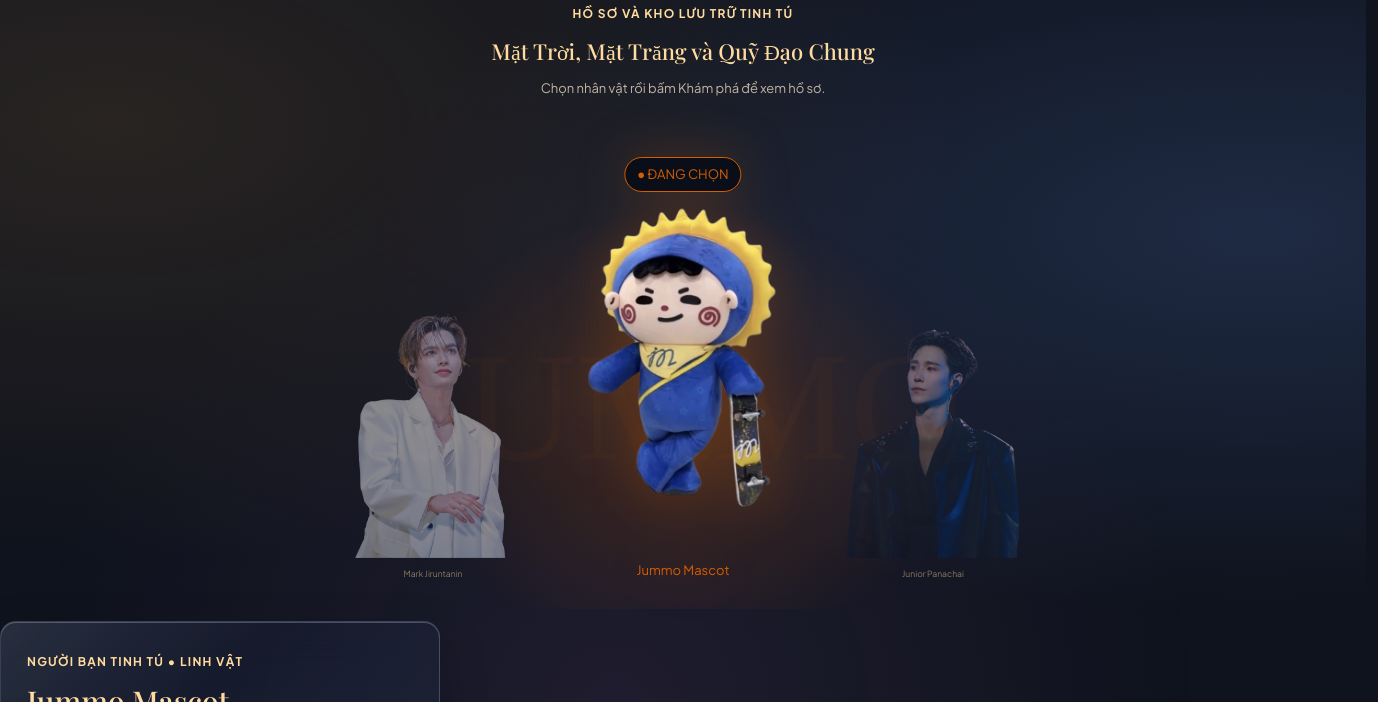
Test: switches profile controls without changing the selected character
Click the button with aria-label "Chọn Mark Jiruntanin" at (433, 449), box [337,317,529,581]
(page scrolled)
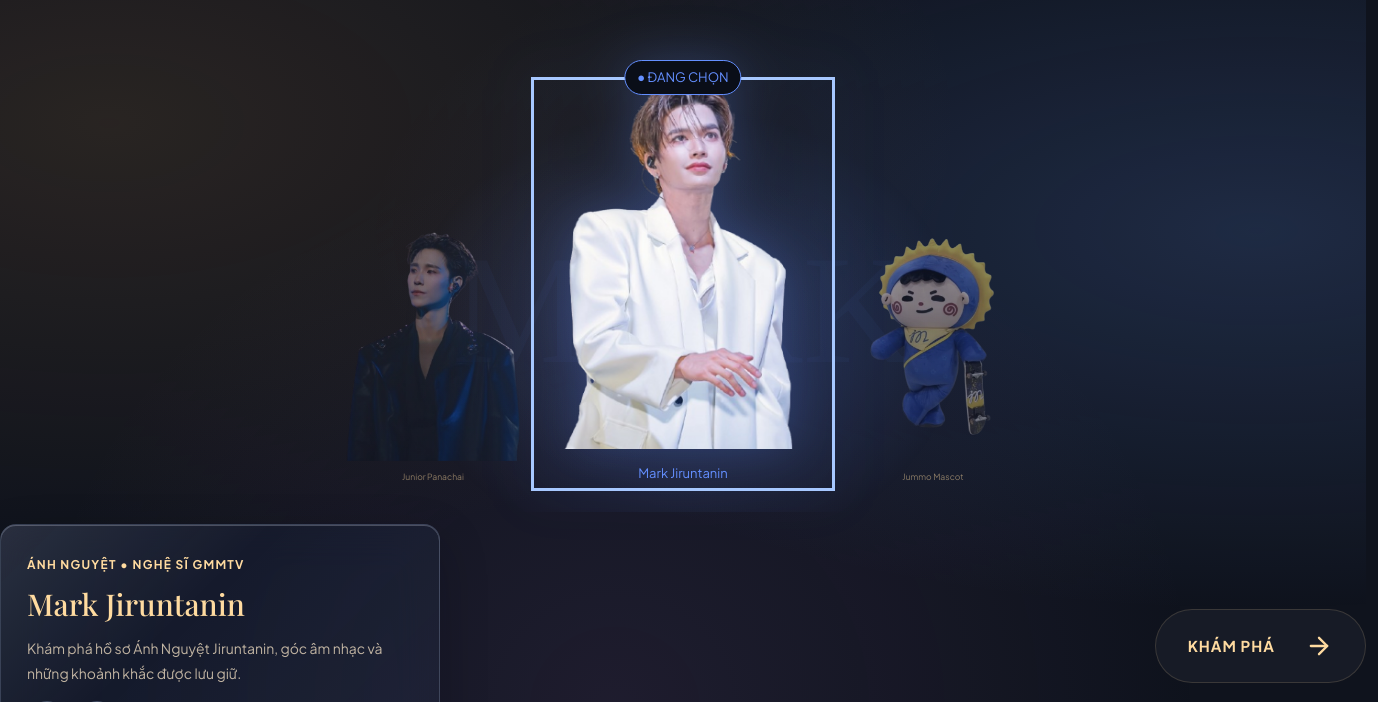
Expected: the button with aria-label "Khám phá Mark Jiruntanin" is shown, [1155,609,1366,683]
